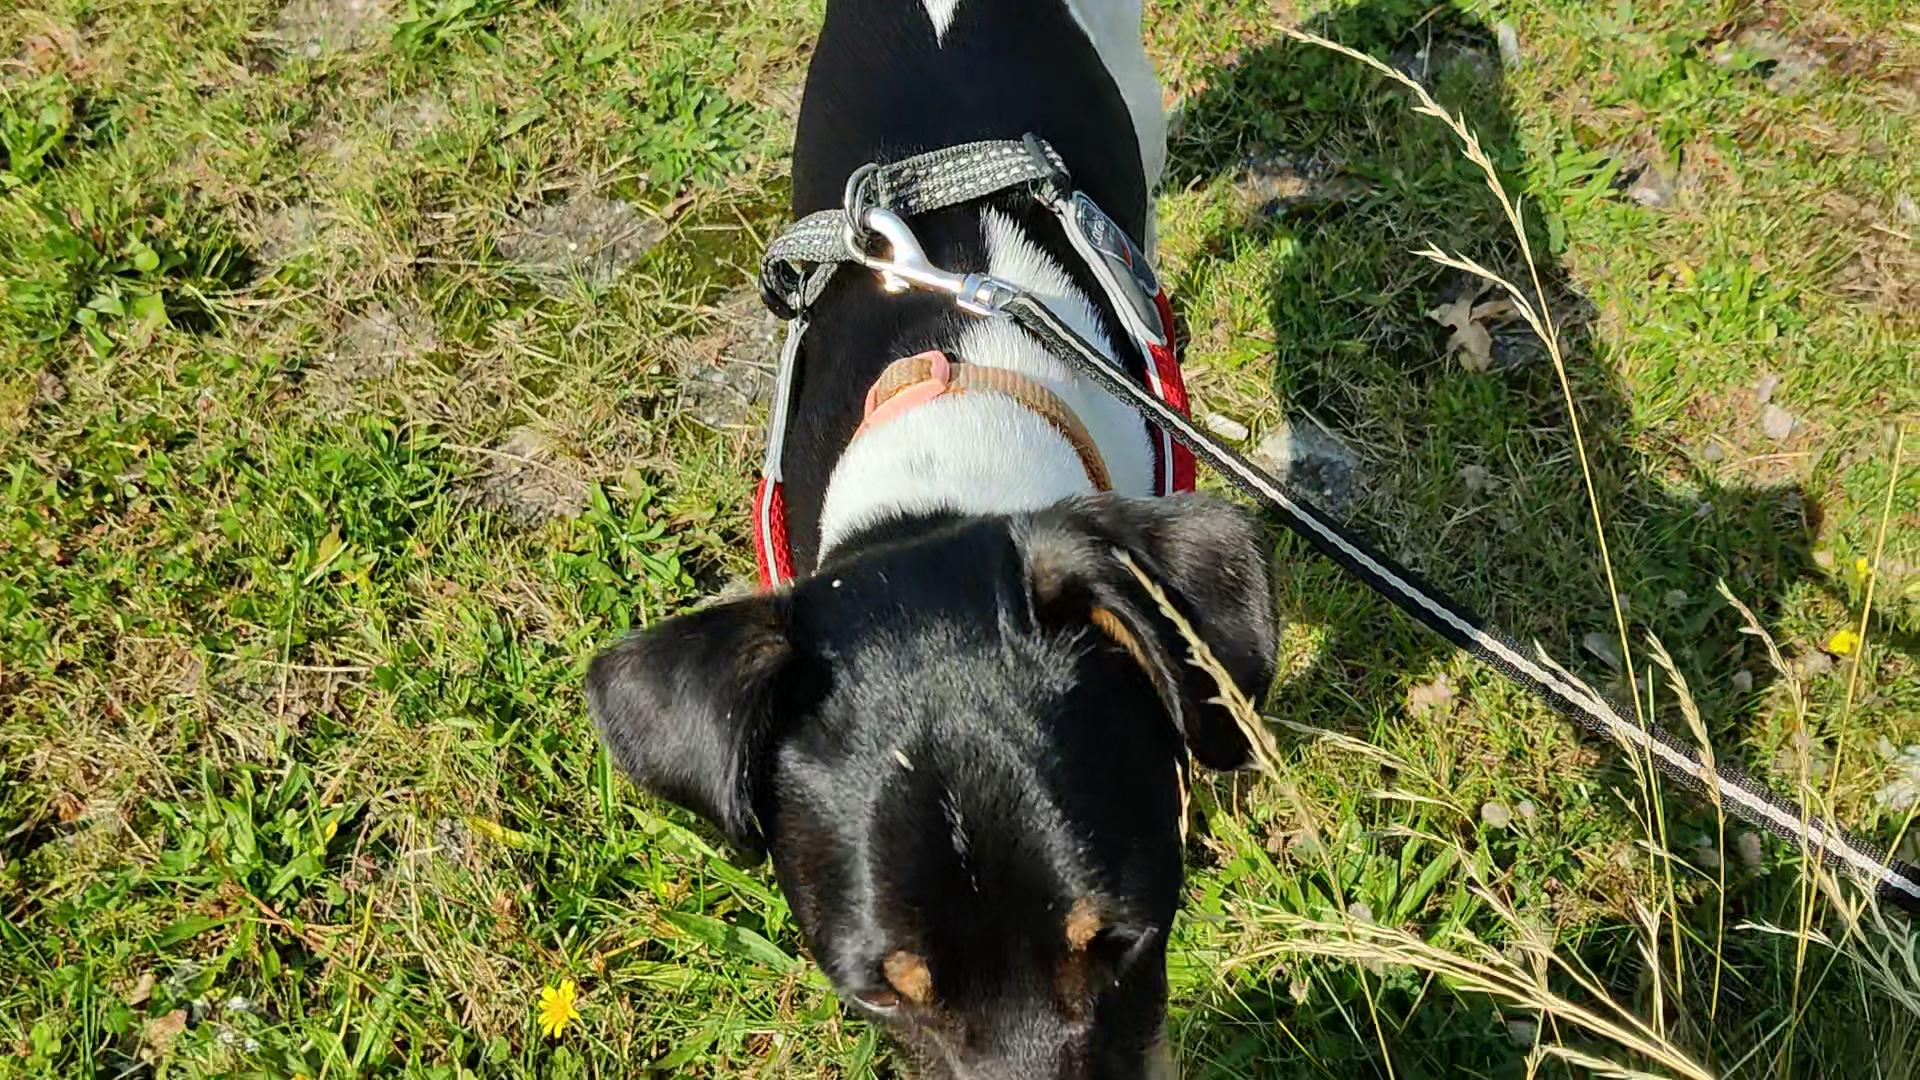Dog: (578, 0, 1290, 1079)
